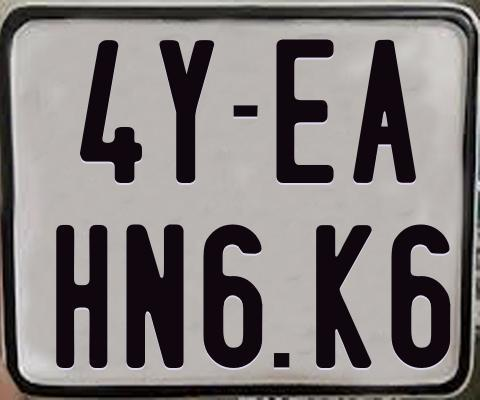4: (77, 38, 139, 181)
6: (390, 224, 455, 372), (200, 223, 262, 371)
A: (351, 39, 416, 182)
E: (273, 36, 333, 182)
H: (54, 223, 107, 372)
K: (315, 222, 374, 368)
N: (124, 223, 185, 372)
Y: (159, 39, 215, 188)
